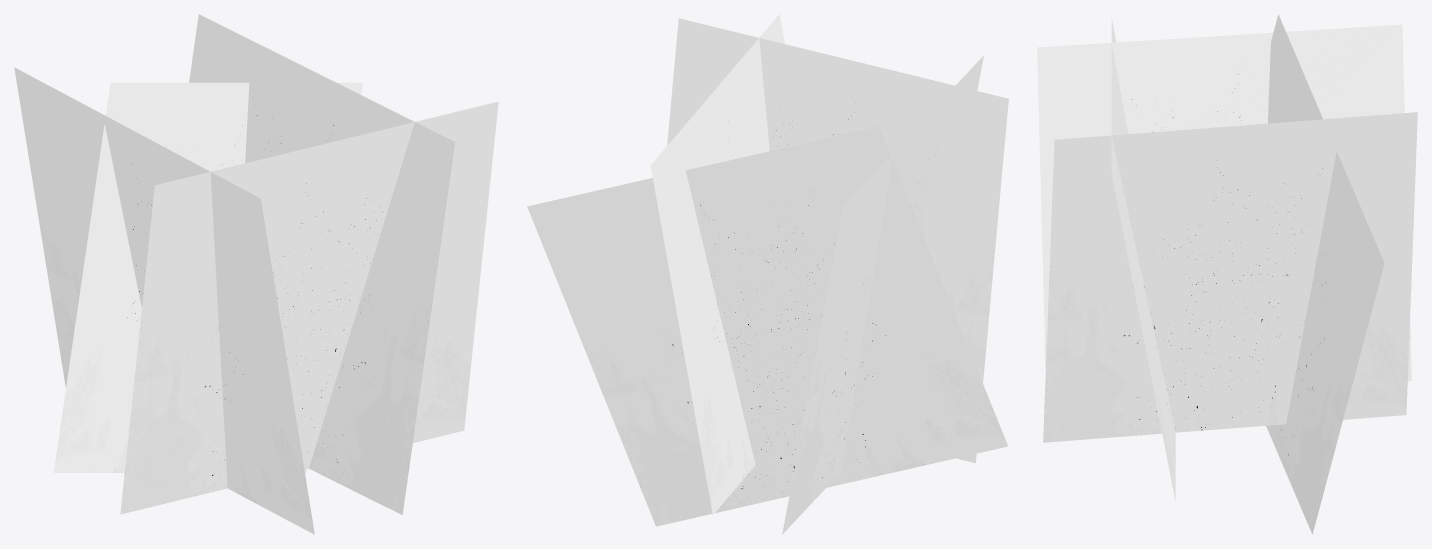
Rendered from shrub.glb.
The picture shows the model from 3 angles, left to right: view 1: azimuth 30°, elevation 25°; view 2: azimuth 150°, elevation 25°; view 3: azimuth 270°, elevation 25°; orthographic projection. The views are drawn at different scales.
Visible parts, largest first — view 1: bush; view 2: bush; view 3: bush.
Part boxes in pixels (x1=…): bush: x1=14, y1=14, x2=498, y2=534; bush: x1=527, y1=14, x2=1008, y2=534; bush: x1=1037, y1=14, x2=1417, y2=534.
Size of the model in its own units: 5.53 by 5.94 by 4.84.
1 material, 1 textured.
